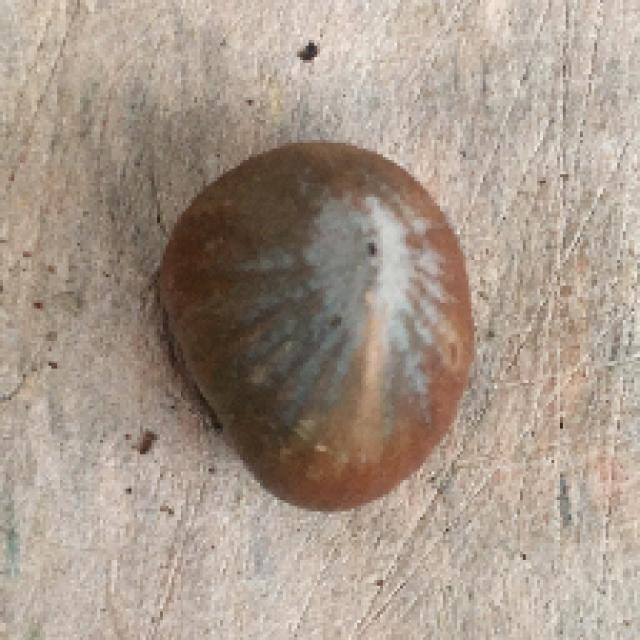qualityHazelnut: (149, 134, 472, 512)
